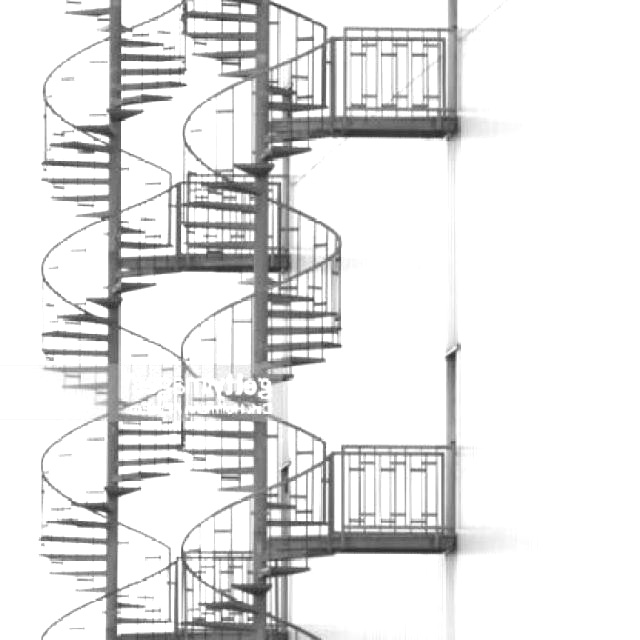stair: (12, 10, 465, 267), (30, 414, 175, 635), (188, 418, 318, 639), (221, 285, 342, 386), (40, 300, 135, 395)
